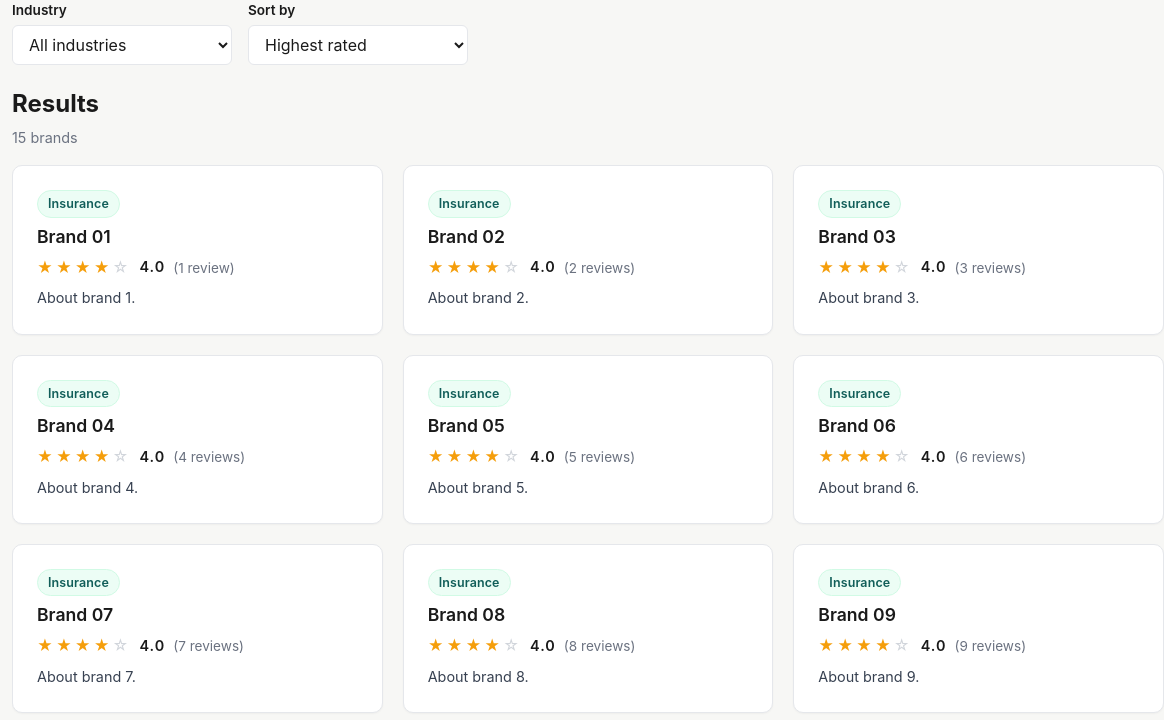
Test: pagination › moves focus to the results heading after a page change, and only then
Check: the heading "Brand 01" is shown, box 37,226 -> 111,247
Select "Insurance" in the dropdown labelled "Industry" at [122, 45], box 12,25 -> 232,65
(page scrolled)
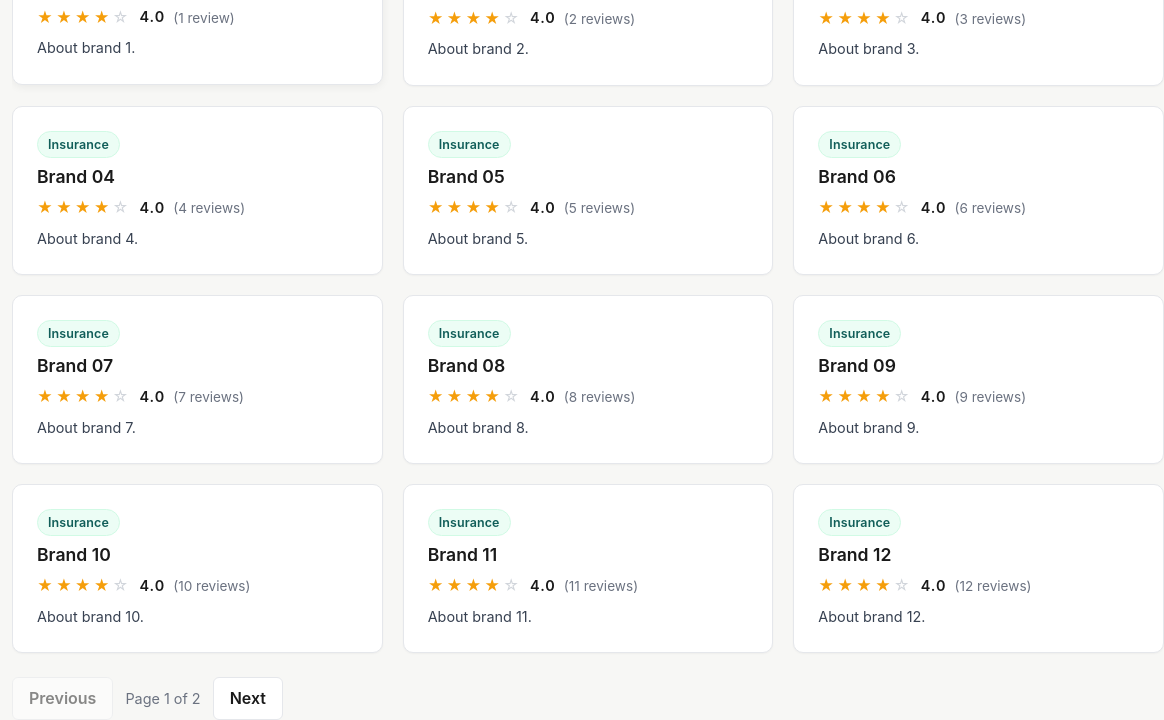
Click the button "Next" at [248, 699], box 213,677 -> 283,719
(page scrolled)
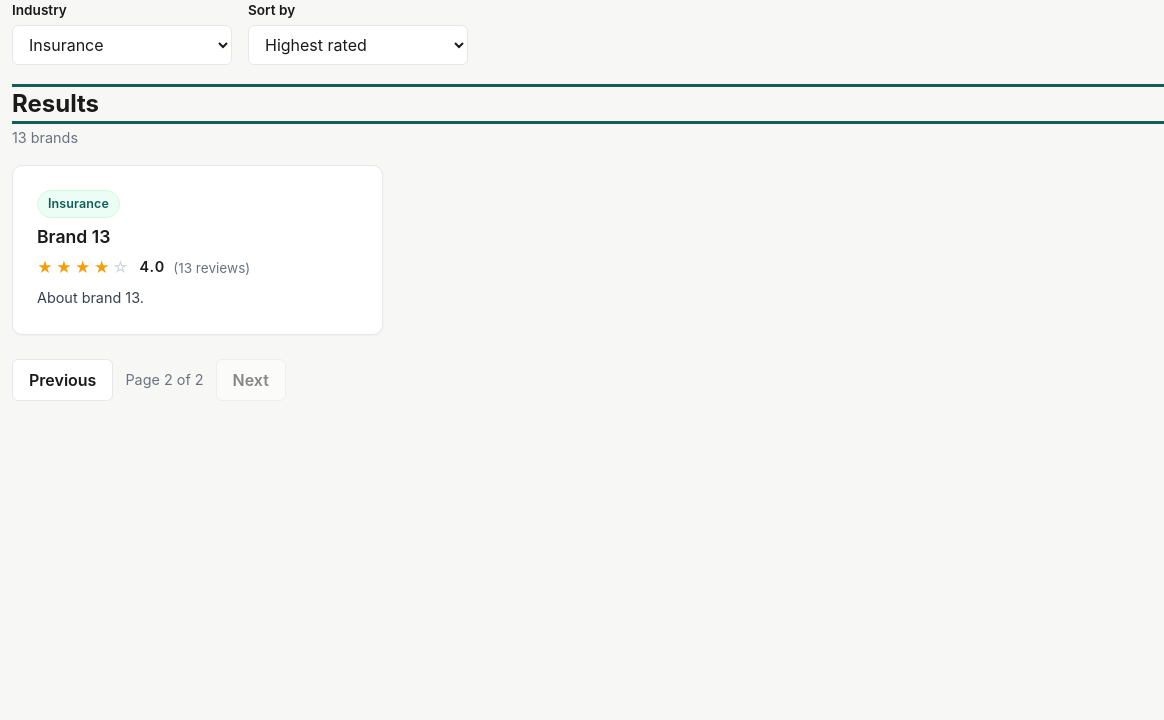
Check: the text "Page 2 of 2" is shown, box 125,369 -> 204,391
